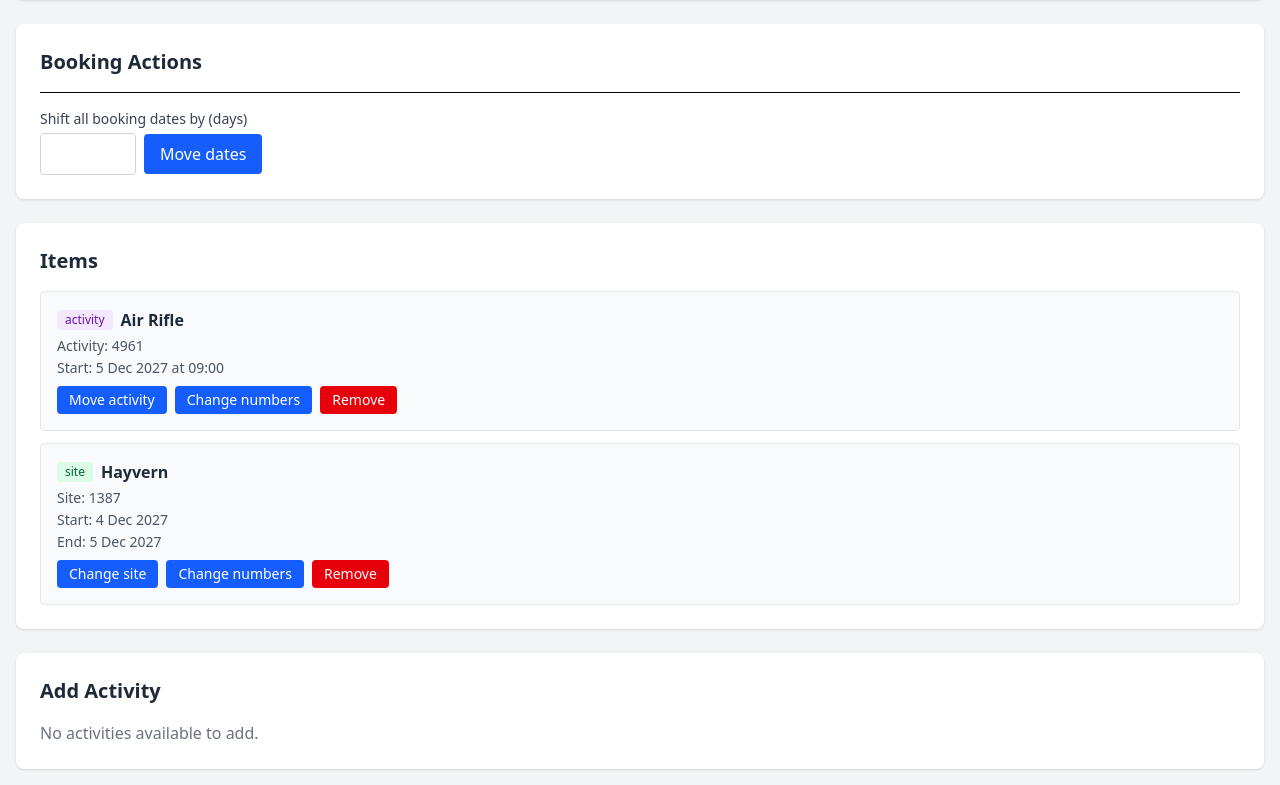
Scenario: remove-activity action › removes an activity item after confirmation and shows a success banner
(page scrolled)
Click the button "Remove" below "at 09:00": (359, 400) [320,386,397,414]
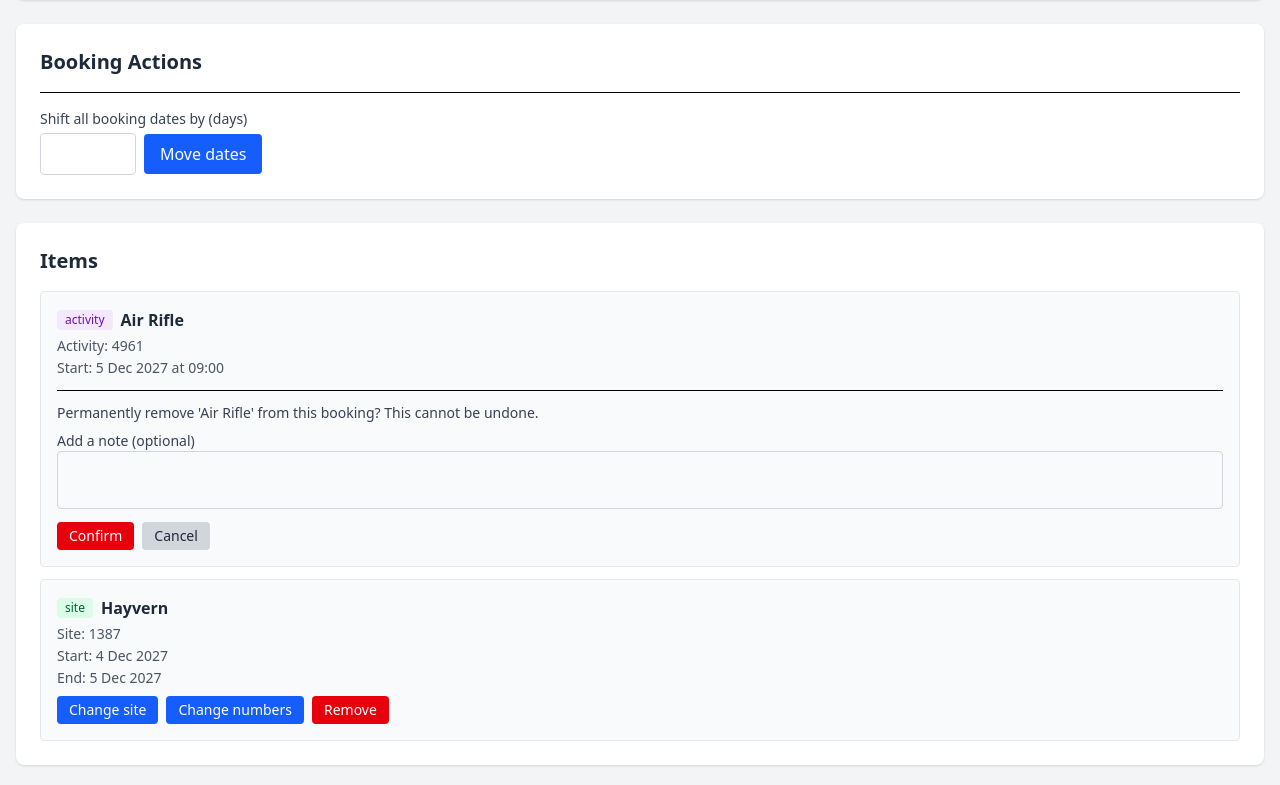
Click the button "Confirm": (96, 536) [57,522,134,550]
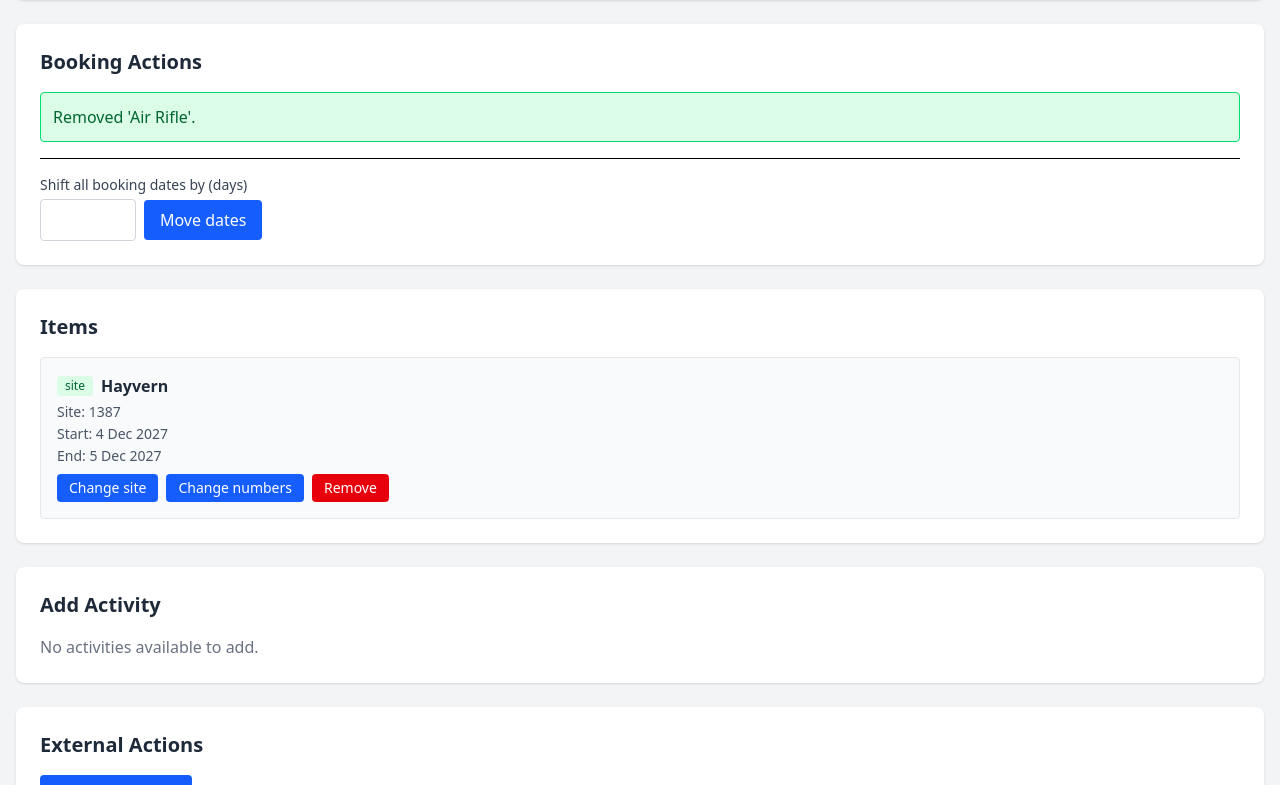
Expected: the message shows "Removed 'Air Rifle'", [53,106,196,128]
